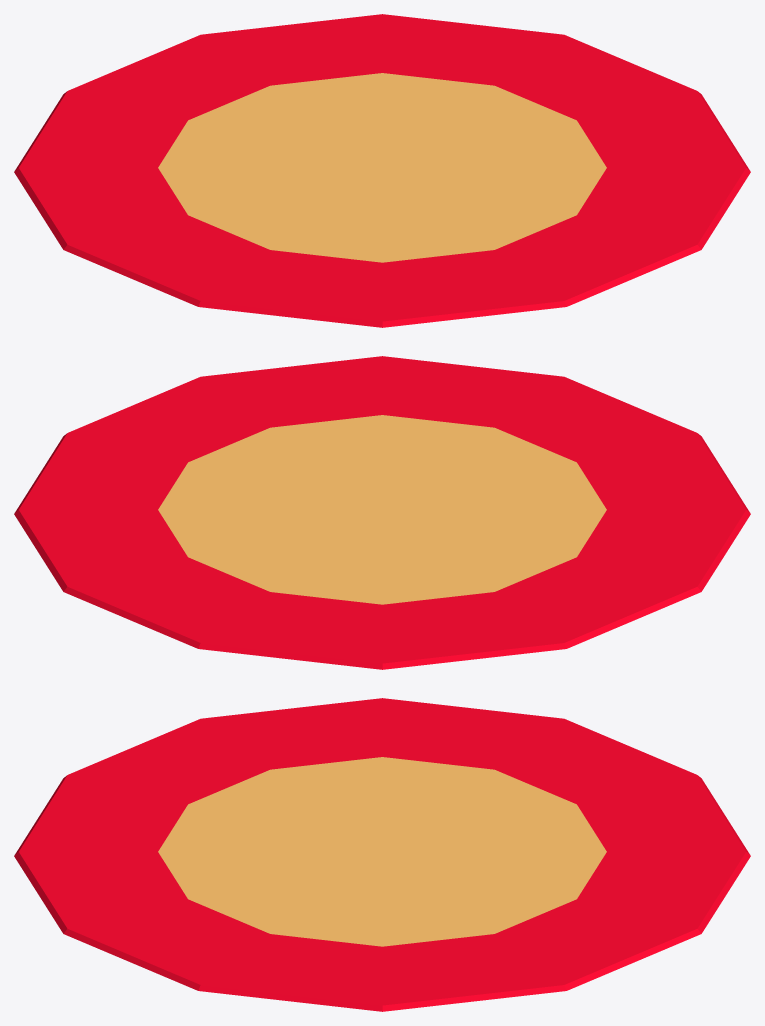
File: Carpet_2A.fbx
3 renders of one model, top to bottom at view 1: azimuth 30°, elevation 25°; view 2: azimuth 150°, elevation 25°; view 3: azimuth 270°, elevation 25°, orthographic.
Visible parts, largest first — view 1: pCylinder194; view 2: pCylinder194; view 3: pCylinder194.
Part boxes in pixels (left/top/right/bottom): pCylinder194: left=14, top=14, right=750, bottom=327; pCylinder194: left=14, top=356, right=750, bottom=669; pCylinder194: left=14, top=698, right=750, bottom=1011.
Size of the model in its own units: 203 by 1.3 by 203.
